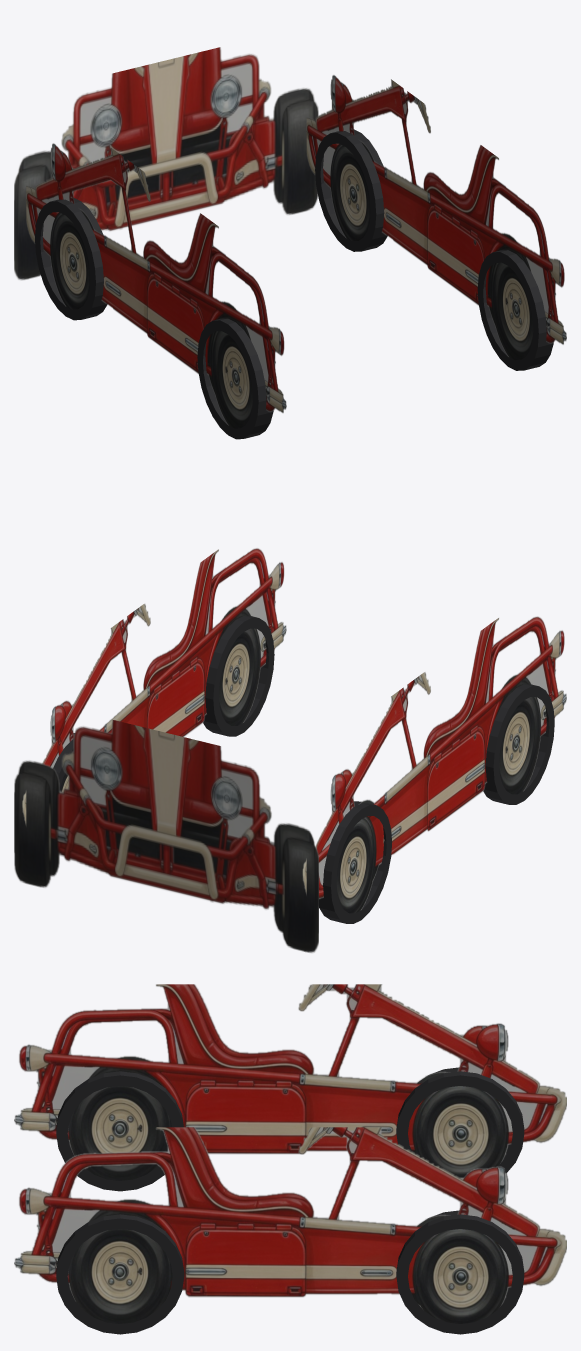
The model's file is go_kart.glb.
The picture shows the model from 3 angles, top to bottom: view 1: azimuth 30°, elevation 25°; view 2: azimuth 150°, elevation 25°; view 3: azimuth 270°, elevation 25°; orthographic projection. The views are drawn at different scales.
Visible parts, largest first — view 1: go_kart, wheel_FL, wheel_BL, wheel_BR, wheel_FR; view 2: go_kart, wheel_FL, wheel_BR, wheel_BL; view 3: go_kart, wheel_FR, wheel_BR, wheel_FL, wheel_BL.
Part boxes in pixels (box(x1,y1,x2,y2)): go_kart: box(14, 47, 566, 428); wheel_FL: box(35, 198, 107, 320); wheel_BL: box(197, 318, 273, 439); wheel_BR: box(477, 250, 553, 370); wheel_FR: box(315, 129, 387, 251); go_kart: box(14, 548, 566, 952); wheel_FL: box(319, 801, 392, 923); wheel_BR: box(203, 616, 274, 736); wheel_BL: box(483, 684, 554, 804); go_kart: box(14, 984, 566, 1323); wheel_FR: box(396, 1210, 524, 1334); wheel_BR: box(56, 1214, 184, 1334); wheel_FL: box(396, 1067, 524, 1176); wheel_BL: box(56, 1071, 183, 1191).
Bounding box in the file's own units: 1.2 × 0.7292 × 1.8.
2 materials, 1 textured.
